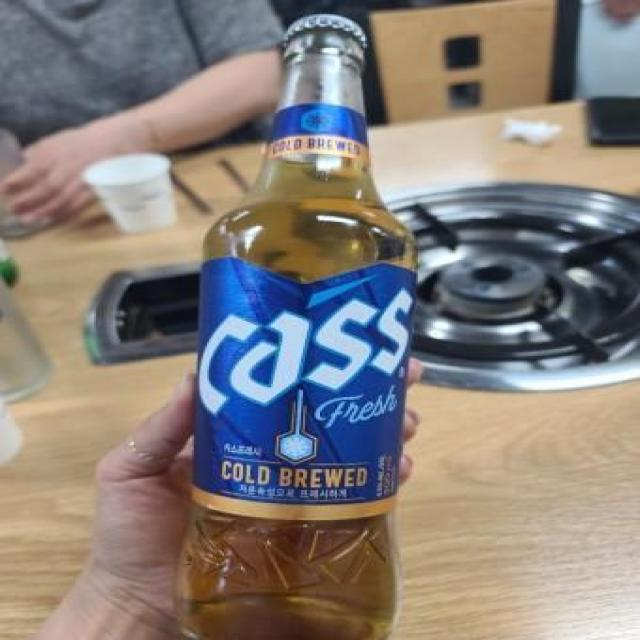beer-bottle: (201, 10, 420, 640)
